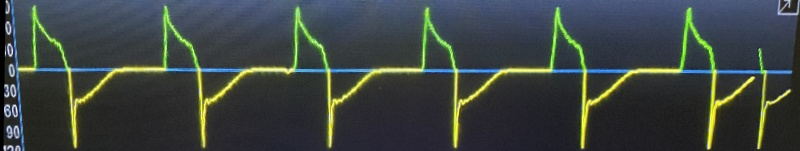normal_flow: (18, 0, 738, 151)
